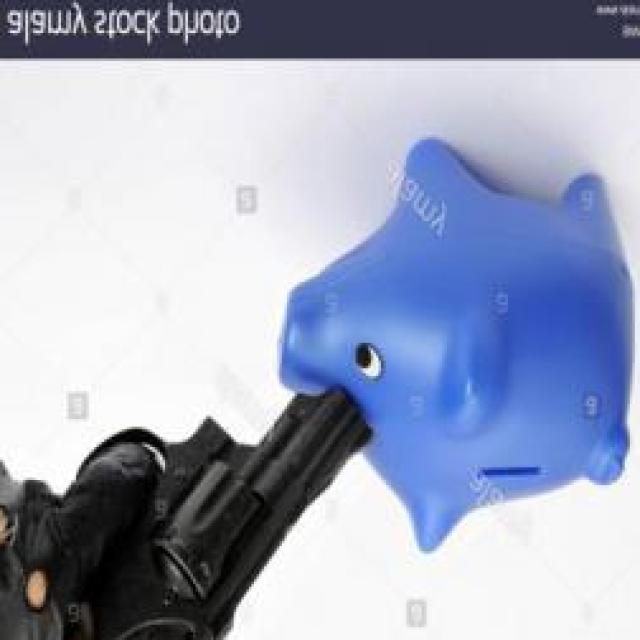pistol: (0, 376, 381, 640)
